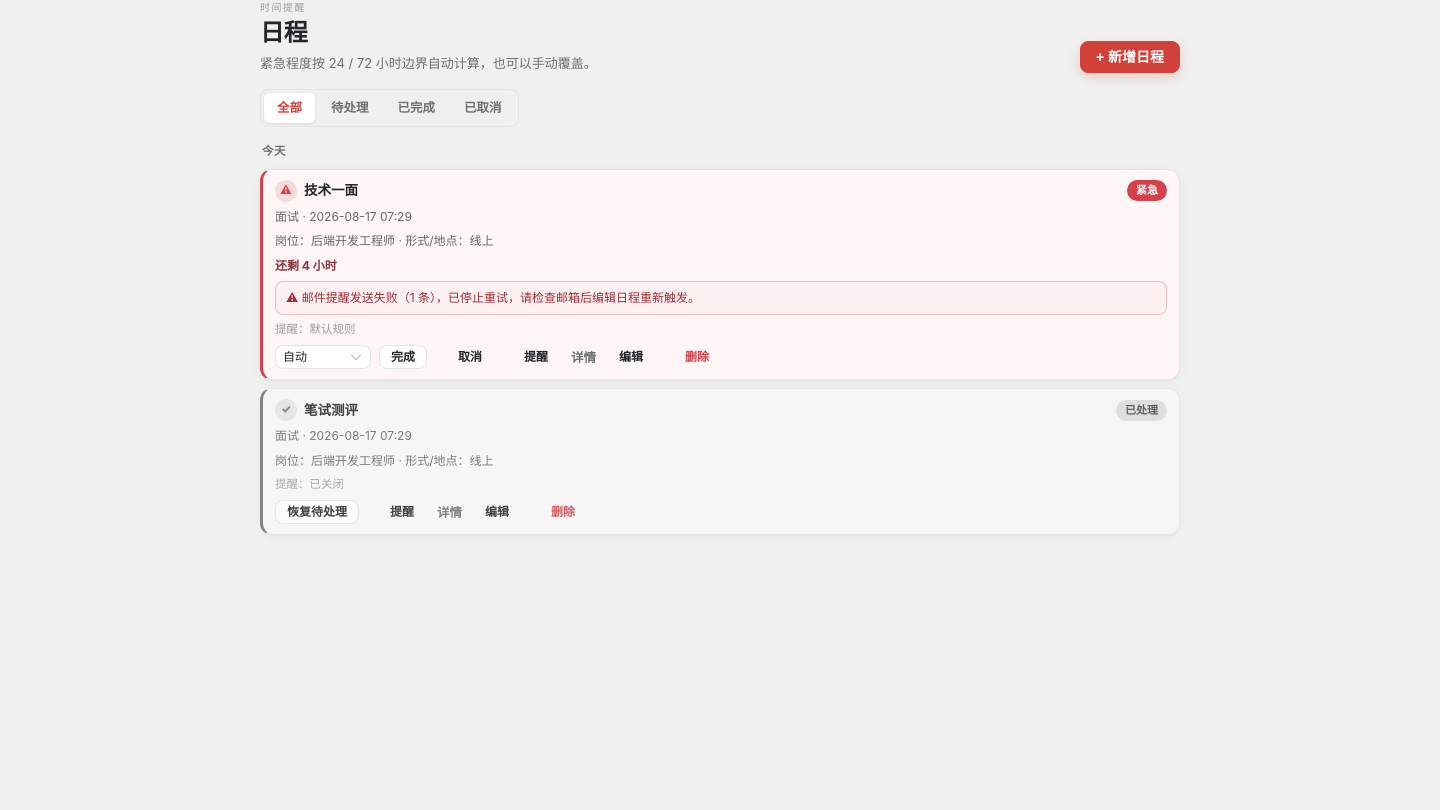
it: SchedulesView › saves custom reminder offsets from the per-schedule reminder dialog
The width and height of the screenshot is (1440, 810).
Expected: the list item with test id "schedule-s1" is shown, x1=260 y1=169 x2=1180 y2=380
Click the button "提醒" below "技术一面" at (536, 357), box x1=513 y1=345 x2=559 y2=369
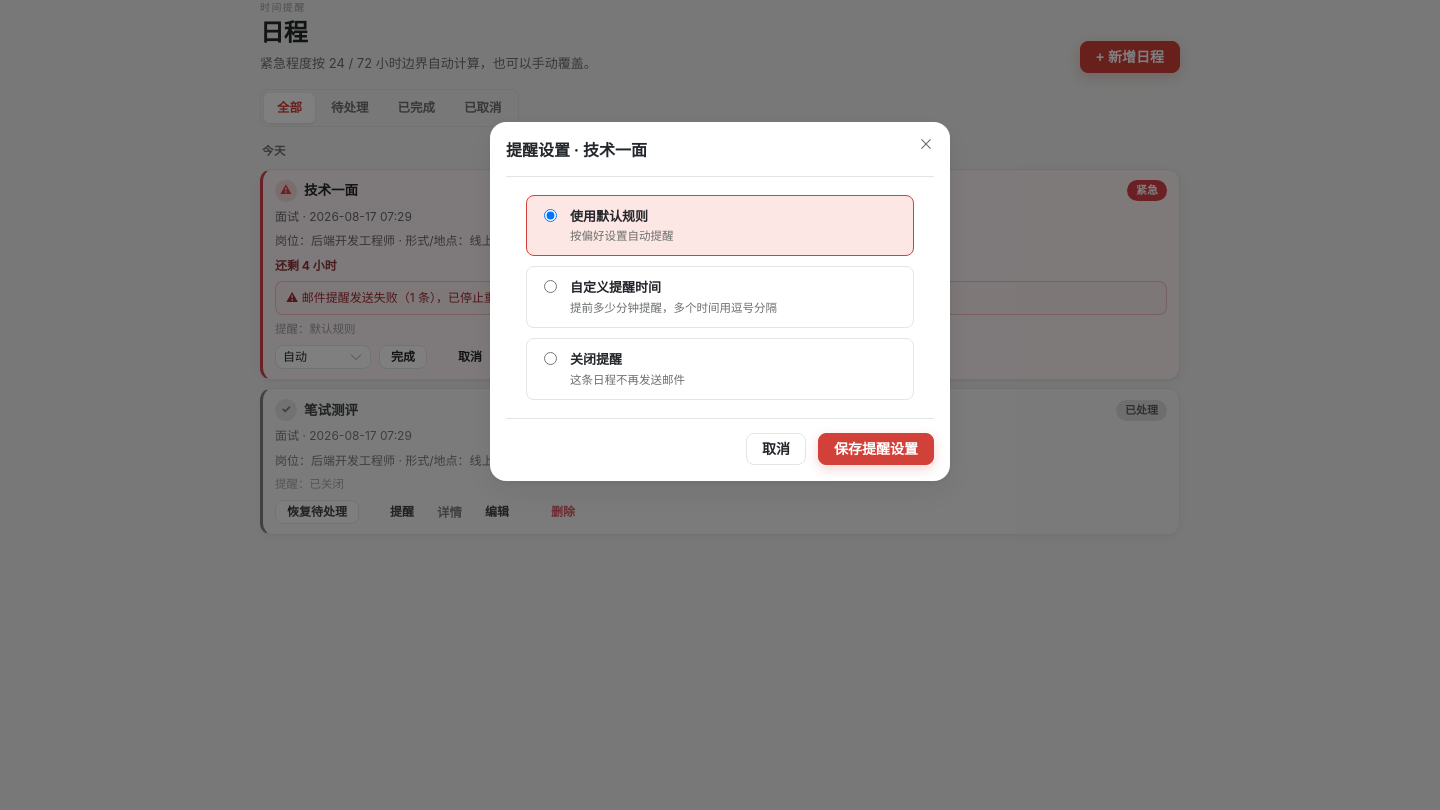
Expected: the list item with test id "schedule-s1" is shown, x1=260 y1=169 x2=1180 y2=380
Click the radio button labelled "自定义提醒时间 提前多少分钟提醒，多个时间用逗号分隔" at (550, 287), box x1=544 y1=280 x2=557 y2=294
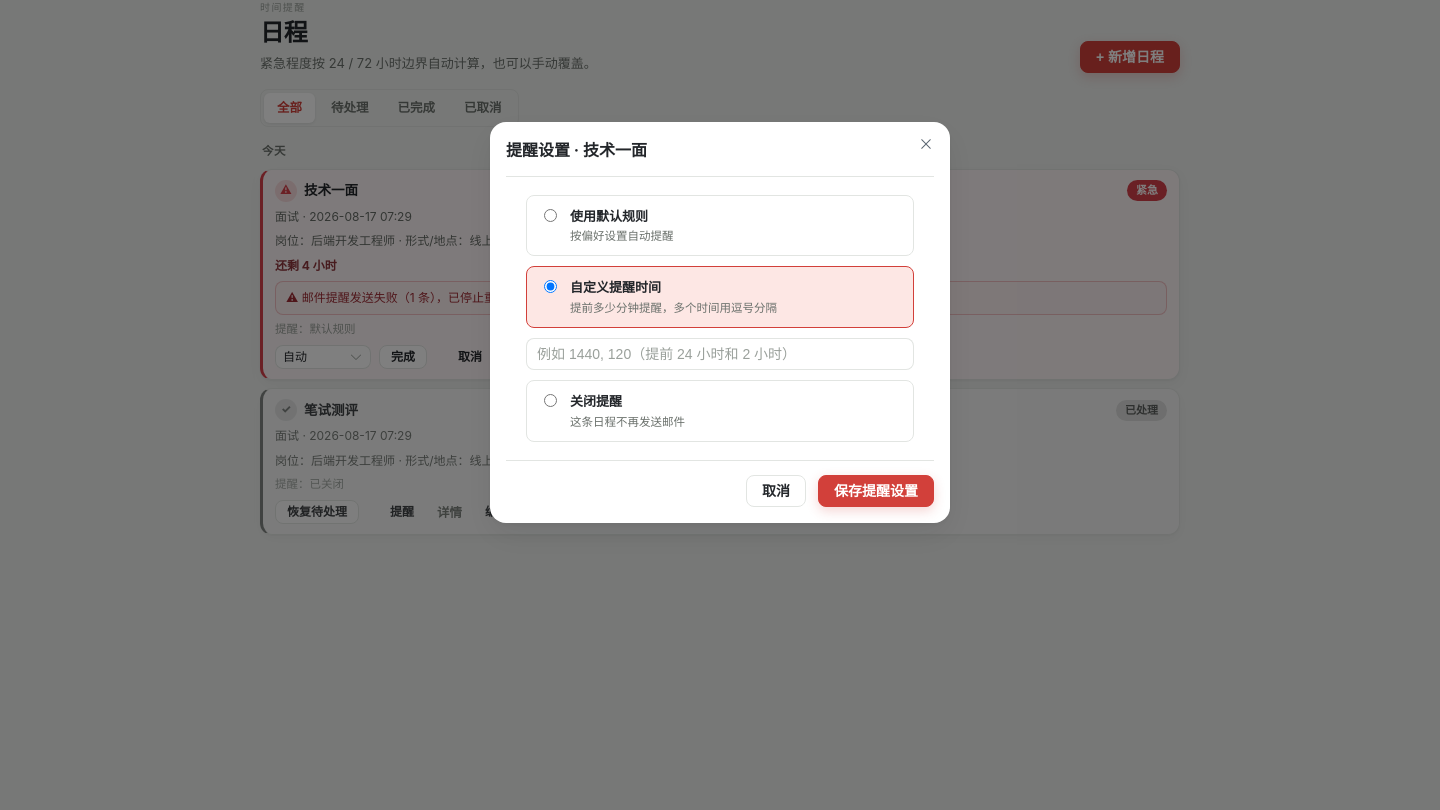
Type "1440, 30" into the field named "reminderOffsets" at (720, 354), box x1=537 y1=339 x2=903 y2=369
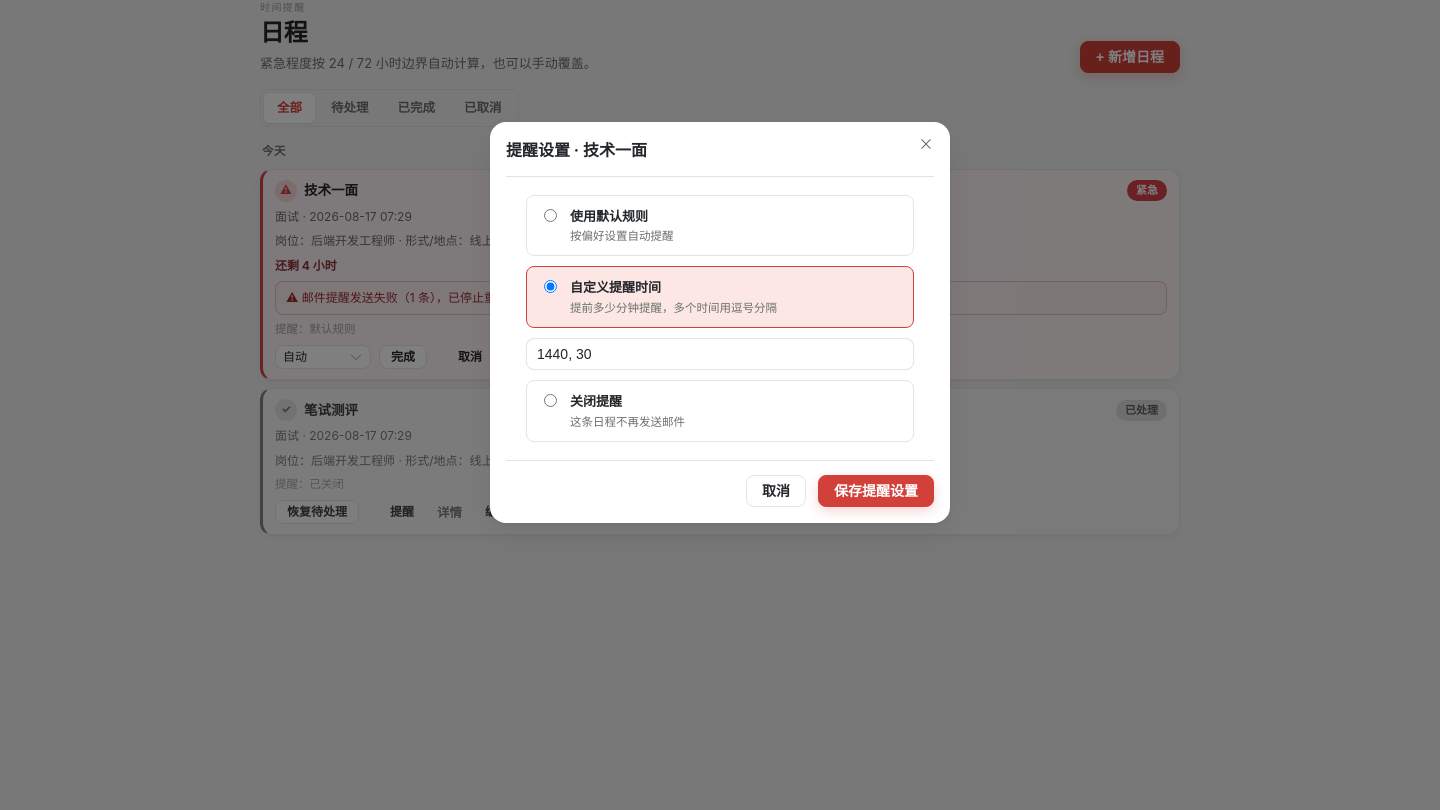
Click the button "保存提醒设置" at (876, 491), box x1=818 y1=475 x2=934 y2=507
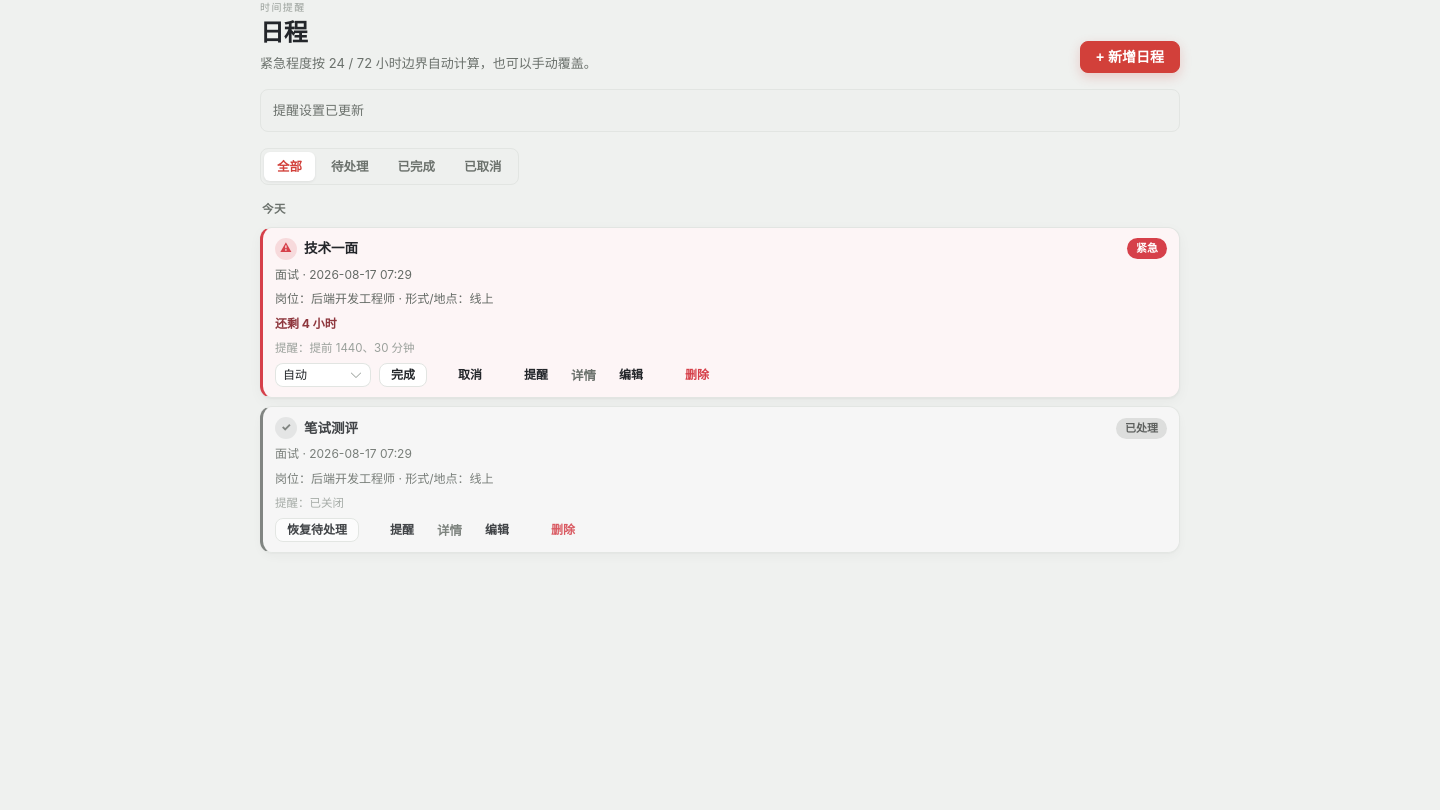
Now the text "提醒设置已更新" is shown, box x1=260 y1=89 x2=1180 y2=132
Now the text with test id "reminder-config-s1" shows "提前 1440、30 分钟", box x1=275 y1=340 x2=415 y2=354
